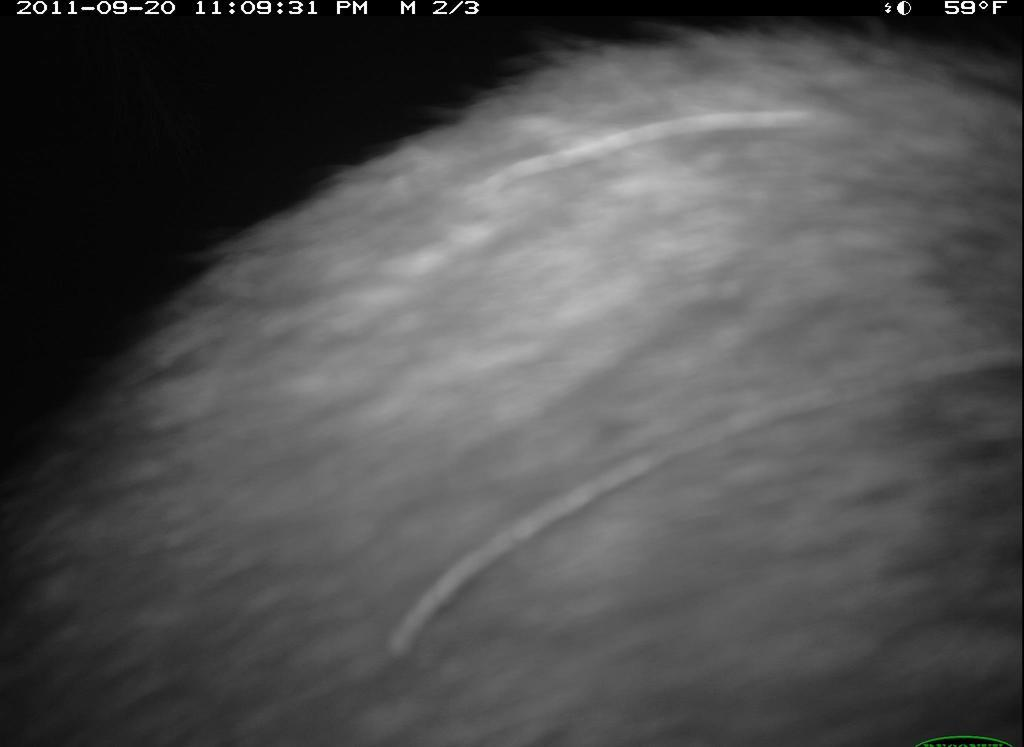raccoon: (3, 26, 1022, 747)
